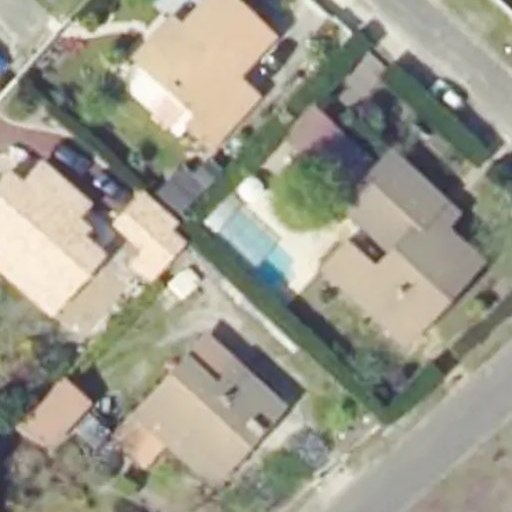pool: (217, 208, 298, 291)
